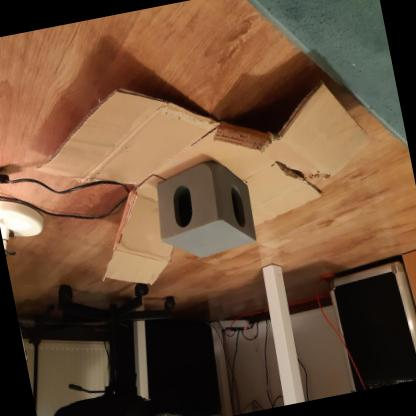CornerCasting: (148, 157, 260, 265)
